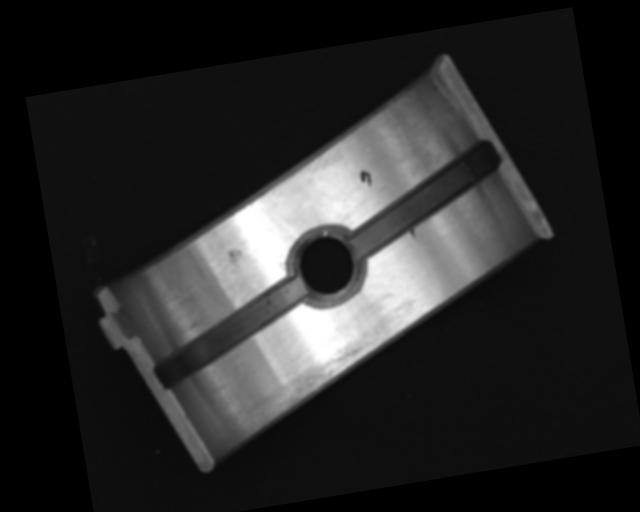blot: (357, 167, 373, 191)
bruise: (226, 246, 245, 268), (407, 227, 417, 241)
gap: (338, 141, 507, 259), (146, 279, 317, 390)
hole: (284, 221, 368, 312)
scratch: (225, 332, 398, 438)
